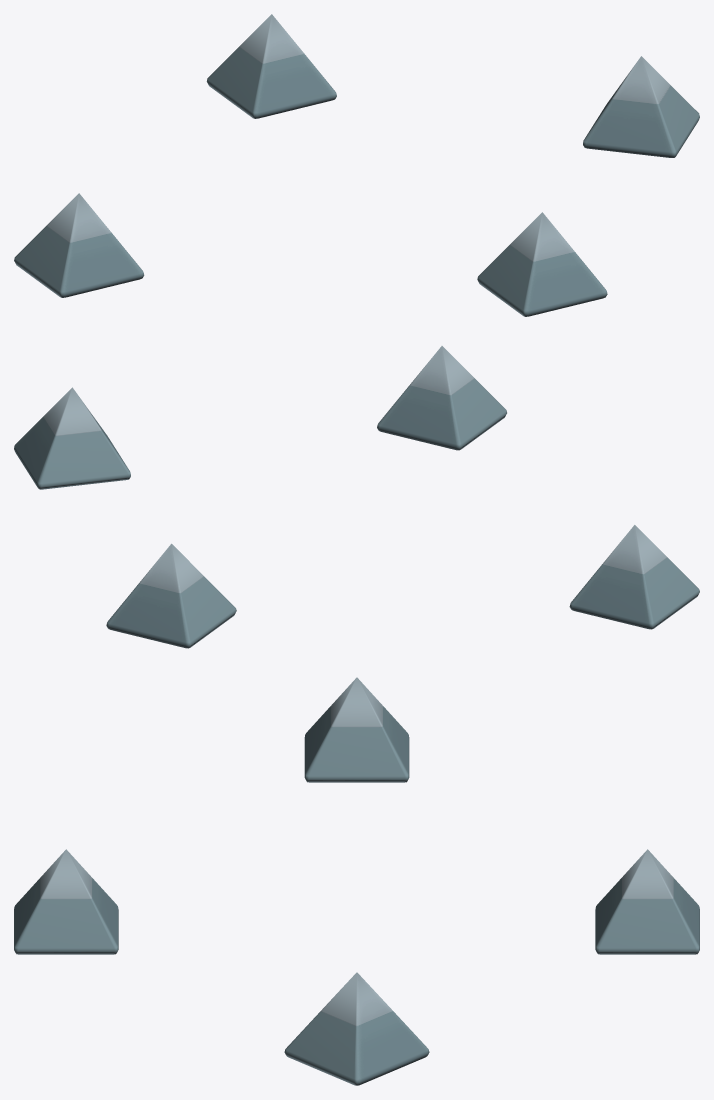
The model's file is Props.fbx.
The picture shows the model from 3 angles, top to bottom: view 1: azimuth 30°, elevation 25°; view 2: azimuth 150°, elevation 25°; view 3: azimuth 270°, elevation 25°; orthographic projection. The views are drawn at different scales.
Visible parts, largest first — view 1: 三角锥 (×4); view 2: 三角锥 (×4); view 3: 三角锥 (×4).
Part boxes in pixels (x1,y1,x2,y2): 三角锥 (×4): [14, 14, 699, 316]; 三角锥 (×4): [14, 346, 699, 648]; 三角锥 (×4): [14, 677, 699, 1085].
Bounding box in the file's own units: 28.29 × 3.19 × 23.6.
